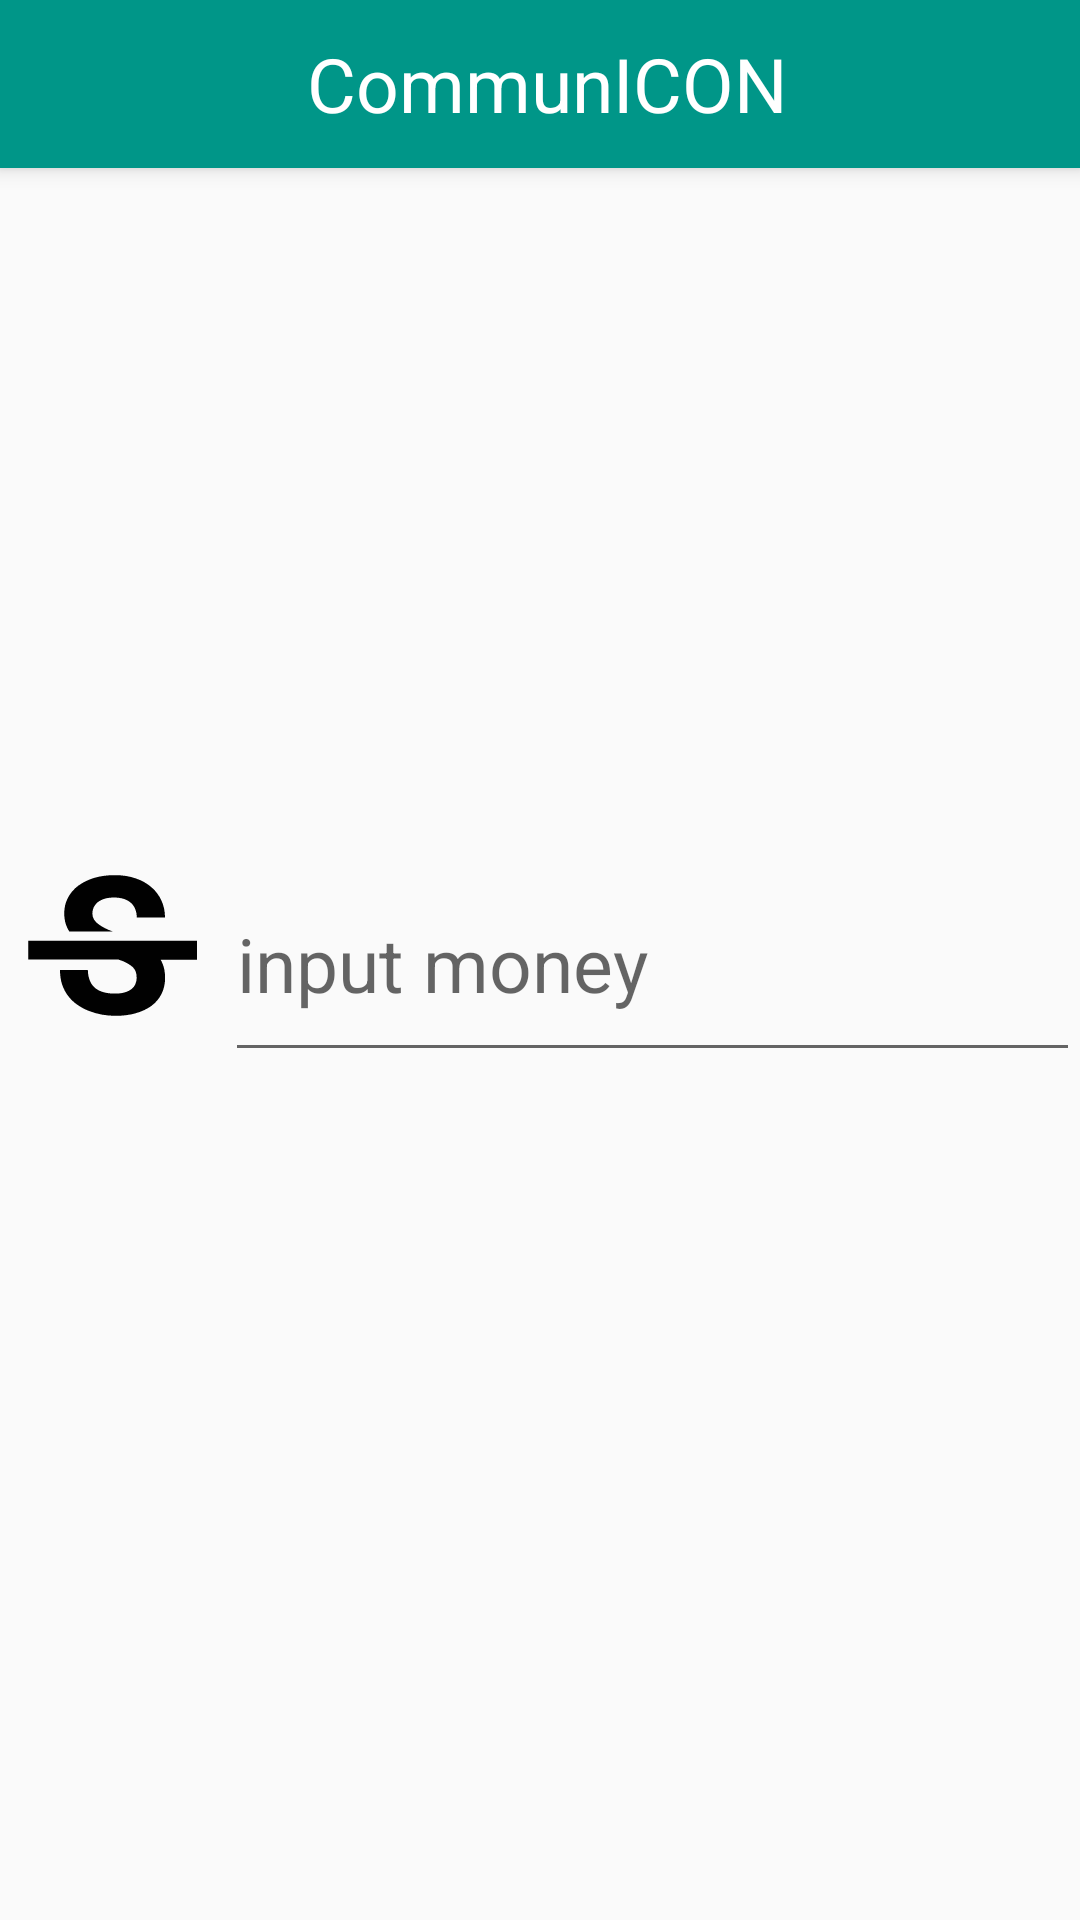

Screen size 1080×1920. Icon name, then its box in pixels as (x1, y1, x2, y2):
strikethrough: (28, 875, 197, 1016)
